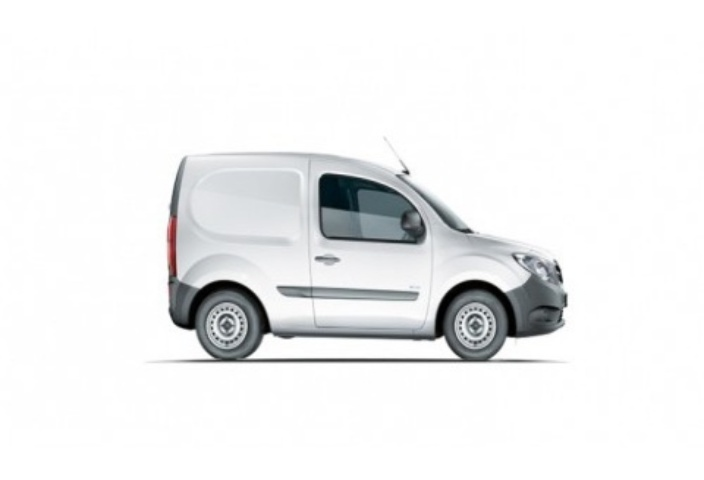van: (170, 142, 580, 363)
